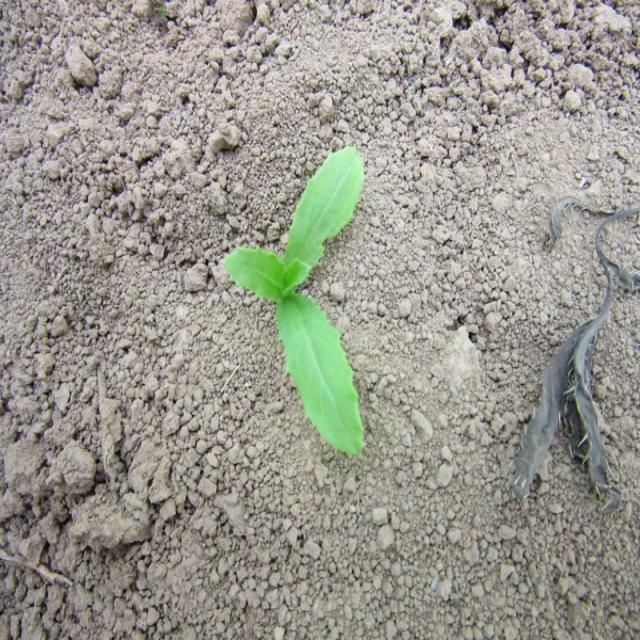field_thistle: (190, 138, 393, 463)
